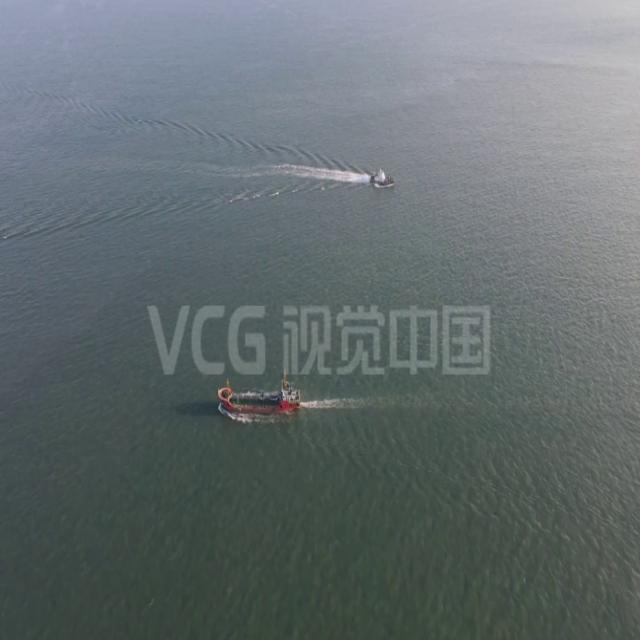cargoship: (217, 374, 304, 421), (368, 167, 396, 192)
